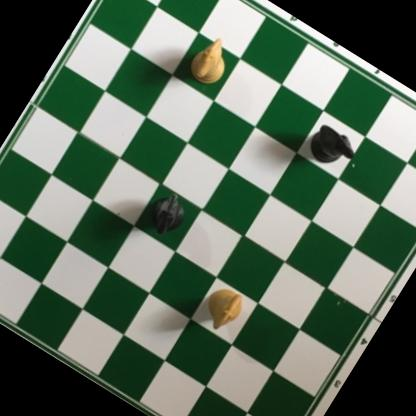black-knight: (302, 119, 362, 177), (140, 186, 196, 244)
white-knight: (181, 30, 239, 93), (196, 280, 251, 337)
